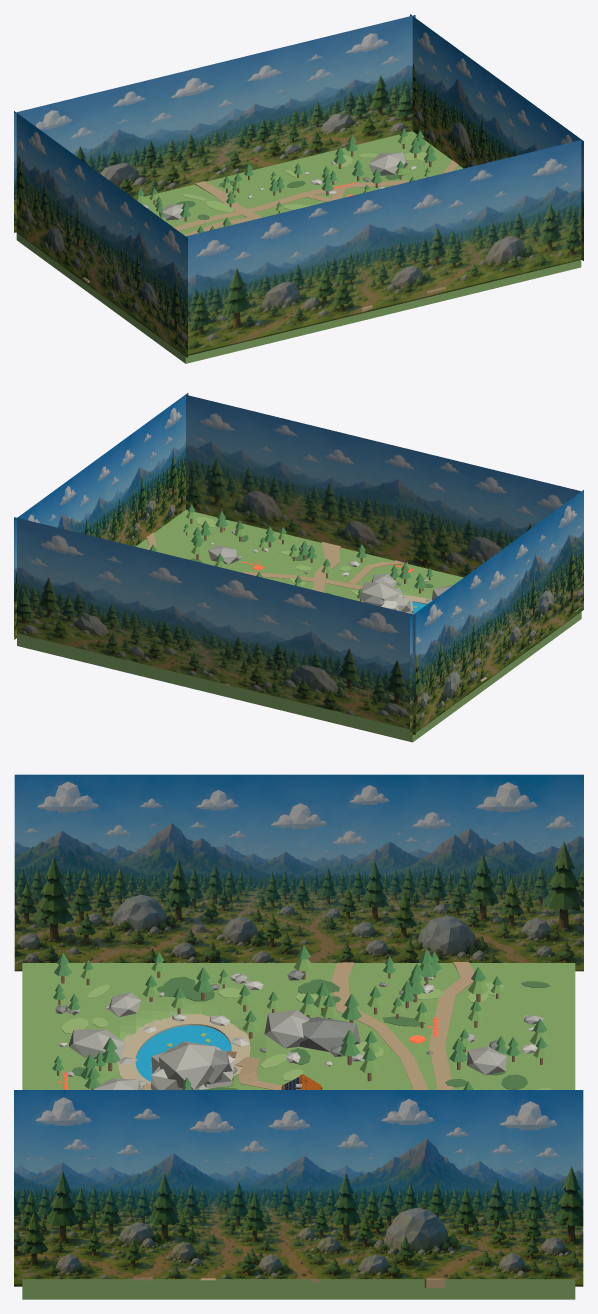
Rendered from earth-map.glb.
3 views of the same model, one above another, from view 1: azimuth 30°, elevation 25°; view 2: azimuth 150°, elevation 25°; view 3: azimuth 270°, elevation 25° (orthographic). The views are drawn at different scales.
Parts seen in each view (by area): view 1: BG_South, BG_North, BG_West, BG_East, TERRAIN_main_playable_ground_with_lake_basin, PATHS, TERRAIN_patch, HILL.008; view 2: BG_North, BG_South, BG_West, TERRAIN_main_playable_ground_with_lake_basin, BG_East, PATHS, CLIFF, TERRAIN_patch; view 3: BG_East, BG_West, TERRAIN_main_playable_ground_with_lake_basin, PATHS, TERRAIN_patch, CLIFF, LAKE_sandy_sloped_shore, LAKE_water_surface, HILL.001, HILL.007, HILL.004, HILL.
Boxes of the visible parts, bbox=[...] form: BG_South: bbox=[186, 140, 581, 355]; BG_North: bbox=[14, 15, 415, 232]; BG_West: bbox=[14, 111, 187, 357]; BG_East: bbox=[410, 14, 583, 260]; TERRAIN_main_playable_ground_with_lake_basin: bbox=[16, 131, 581, 363]; PATHS: bbox=[83, 160, 458, 311]; TERRAIN_patch: bbox=[175, 152, 427, 219]; HILL.008: bbox=[368, 152, 407, 175]; BG_North: bbox=[14, 517, 415, 734]; BG_South: bbox=[186, 395, 580, 577]; BG_West: bbox=[410, 490, 583, 736]; TERRAIN_main_playable_ground_with_lake_basin: bbox=[17, 510, 581, 742]; BG_East: bbox=[14, 393, 188, 639]; PATHS: bbox=[146, 532, 486, 686]; CLIFF: bbox=[359, 582, 413, 613]; TERRAIN_patch: bbox=[190, 517, 433, 595]; BG_East: bbox=[14, 1090, 583, 1286]; BG_West: bbox=[14, 774, 583, 971]; TERRAIN_main_playable_ground_with_lake_basin: bbox=[22, 963, 575, 1299]; PATHS: bbox=[133, 962, 474, 1287]; TERRAIN_patch: bbox=[61, 976, 550, 1089]; CLIFF: bbox=[151, 1041, 235, 1089]; LAKE_sandy_sloped_shore: bbox=[117, 1014, 250, 1089]; LAKE_water_surface: bbox=[135, 1025, 231, 1081]; HILL.001: bbox=[299, 1016, 360, 1051]; HILL.007: bbox=[264, 1010, 309, 1048]; HILL.004: bbox=[69, 1029, 125, 1060]; HILL: bbox=[467, 1046, 506, 1075].
Size of the model in its own units: 28 by 9.06 by 21.03.
39 materials, 5 textured.
